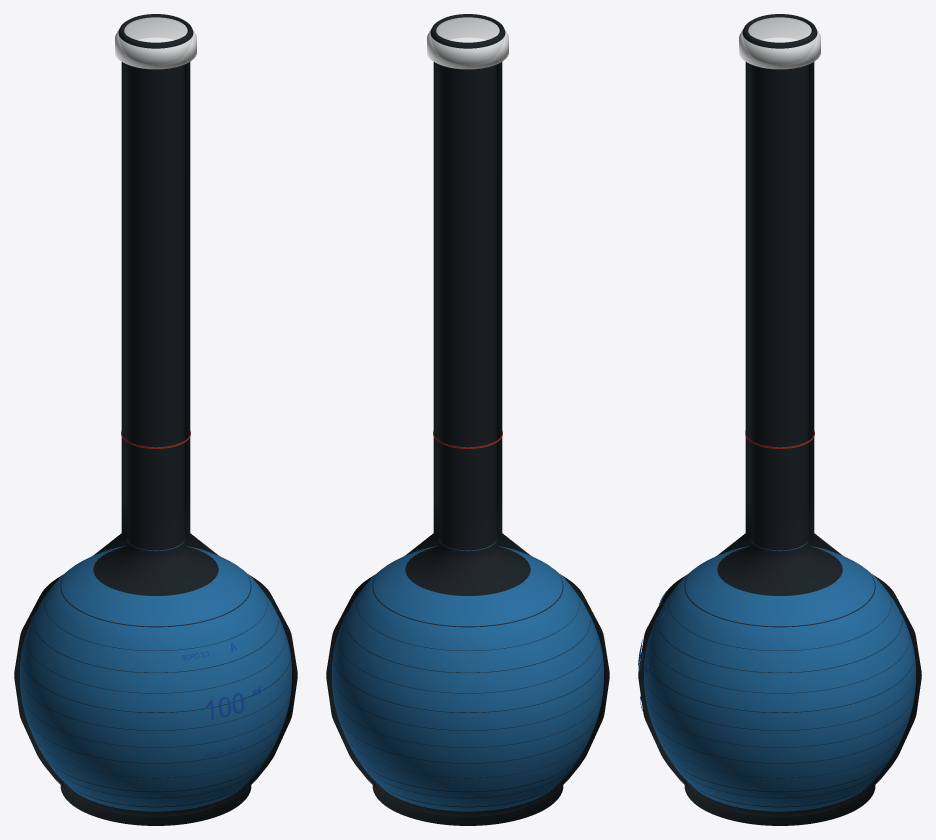
File: matras-aforat_100mL-amb-liquid.glb
The picture shows the model from 3 angles, left to right: view 1: azimuth 30°, elevation 25°; view 2: azimuth 150°, elevation 25°; view 3: azimuth 270°, elevation 25°; orthographic projection.
Parts seen in each view (by area): view 1: Vidre_matras_aforat_100mL, Liquid_100mL, Tap_matras_aforat_100mL, Etiqueta_100mL; view 2: Vidre_matras_aforat_100mL, Liquid_100mL, Tap_matras_aforat_100mL; view 3: Vidre_matras_aforat_100mL, Liquid_100mL, Tap_matras_aforat_100mL.
Boxes of the visible parts, box(x1,y1,x2,y2) form: Vidre_matras_aforat_100mL: box(14, 14, 297, 825); Liquid_100mL: box(20, 539, 291, 811); Tap_matras_aforat_100mL: box(115, 17, 196, 69); Etiqueta_100mL: box(182, 642, 260, 757); Vidre_matras_aforat_100mL: box(326, 14, 609, 825); Liquid_100mL: box(332, 539, 603, 811); Tap_matras_aforat_100mL: box(427, 17, 508, 69); Vidre_matras_aforat_100mL: box(638, 14, 921, 825); Liquid_100mL: box(644, 539, 915, 811); Tap_matras_aforat_100mL: box(739, 17, 820, 69).
Size of the model in its own units: 0.0594 by 0.175 by 0.0594.
